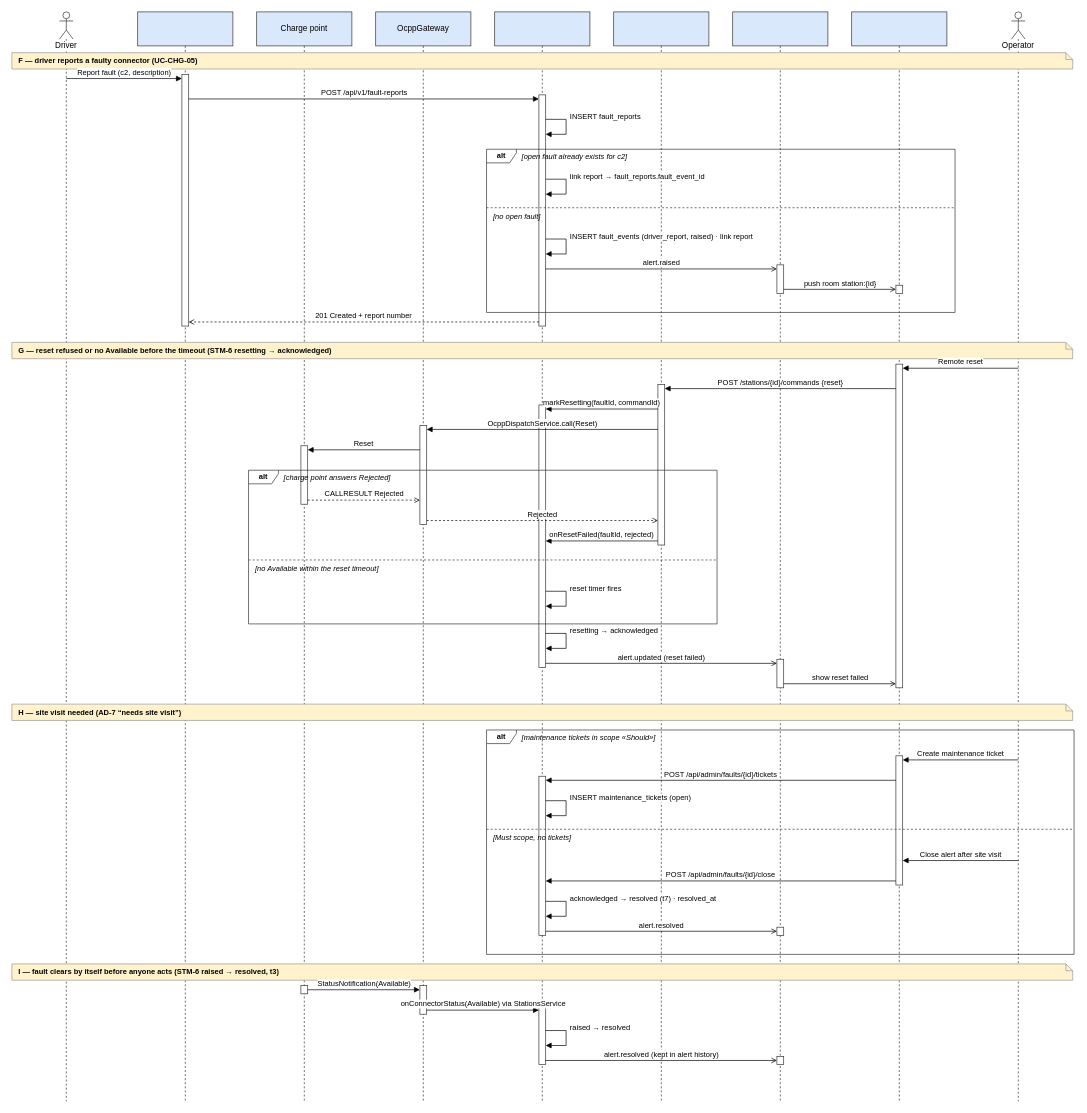
Image size: 1087x1113. Some labels were removed from this diagram. Here are the shapes that lost their labels. From the top down, the box of each, then its label:
(137, 11, 233, 1101): Driver app
(494, 11, 590, 1101): FaultService
(613, 11, 709, 1101): RemoteCommandService
(732, 11, 828, 1101): RealtimeGateway
(851, 11, 947, 1101): Dashboard
